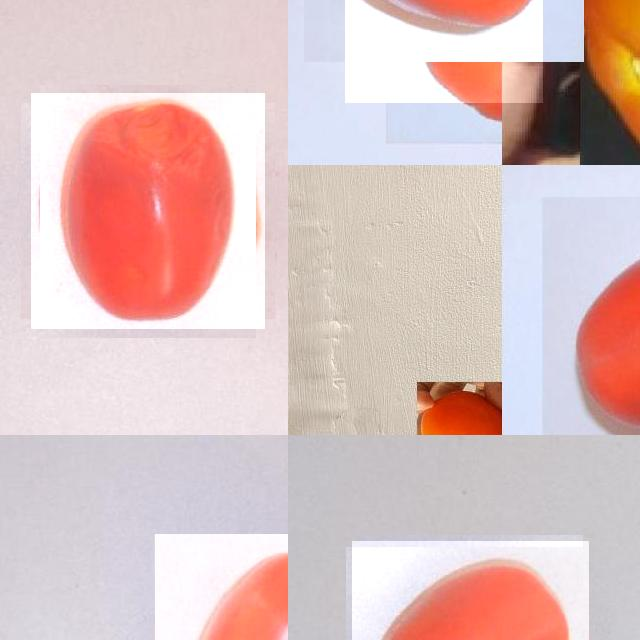Fresh Tomato: (351, 540, 589, 640), (542, 197, 640, 435), (345, 0, 543, 103), (154, 534, 288, 640), (416, 381, 502, 435)
Rotten Tomato: (31, 93, 265, 329)
